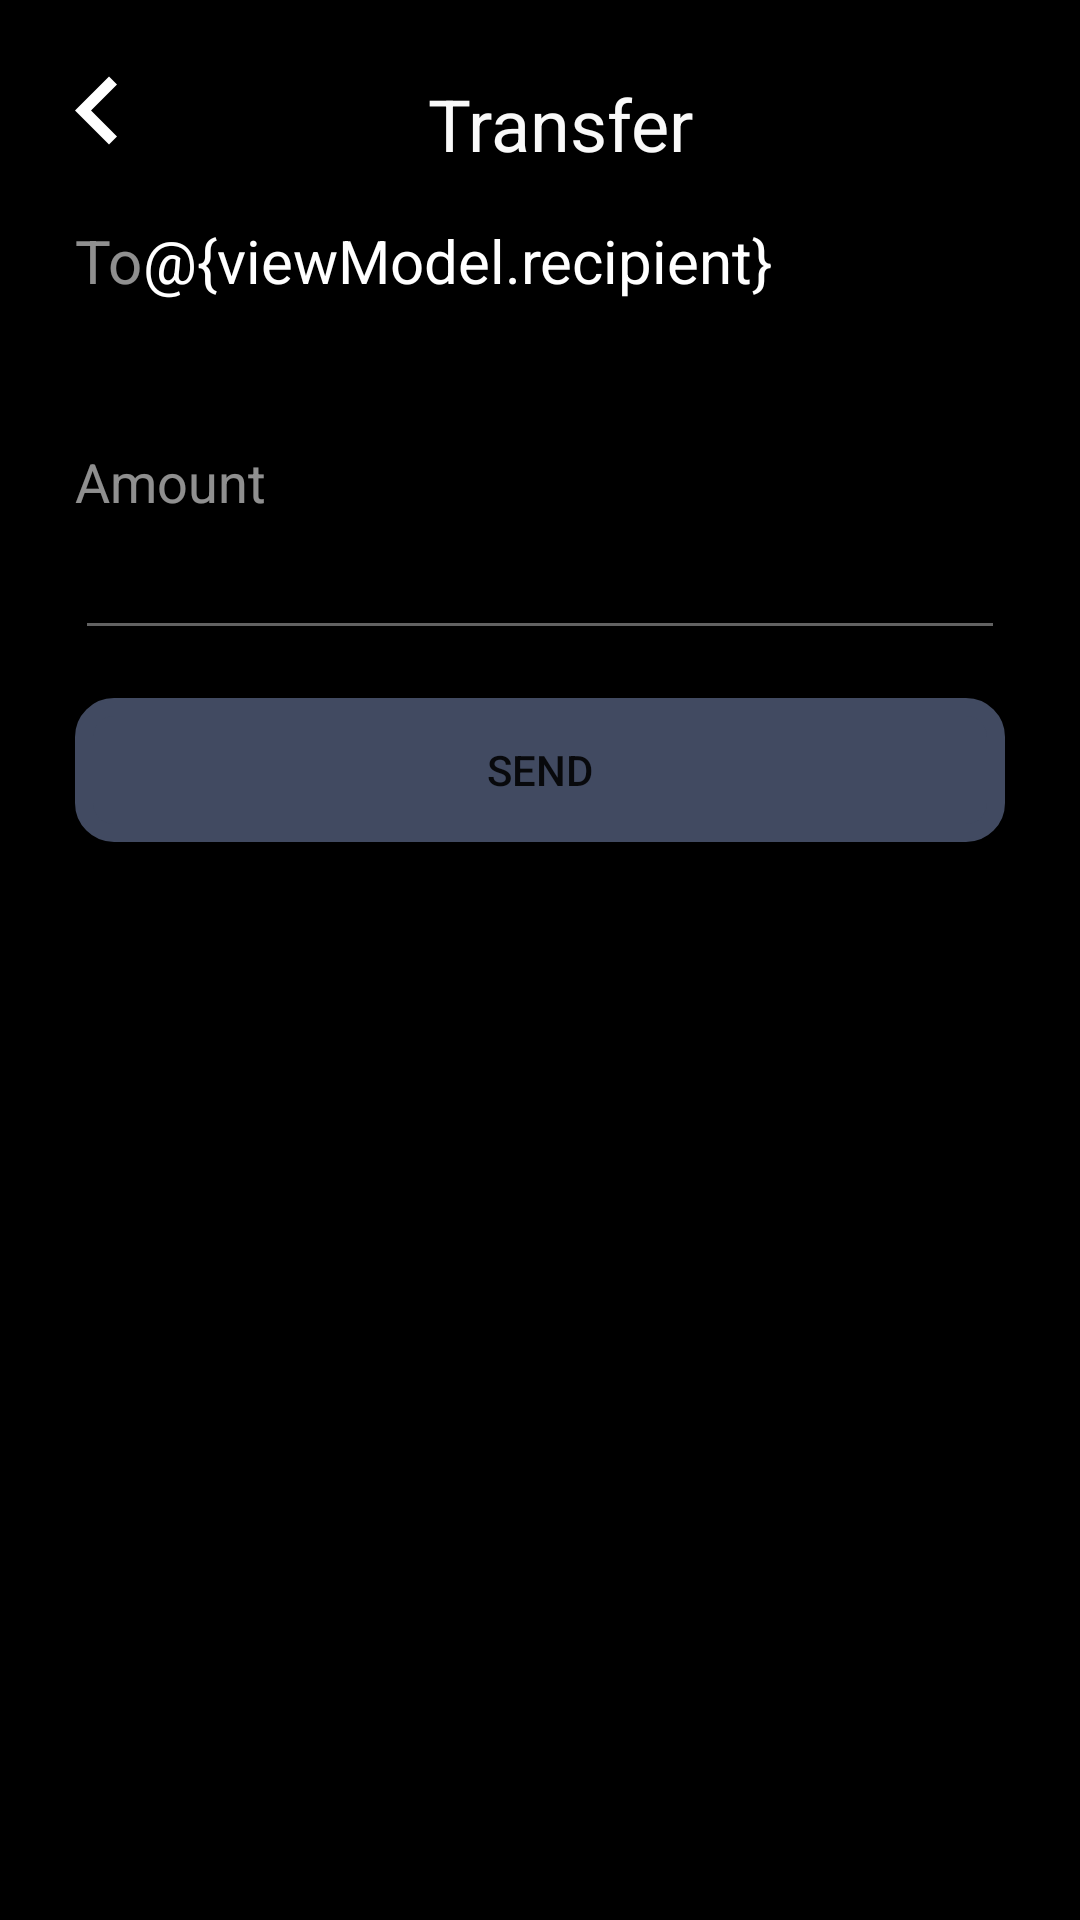

Screen size 1080*1920. Icon name, then its box in pixels as [x1,y1,x2,y2]:
arrow back: [75,76,117,145]
